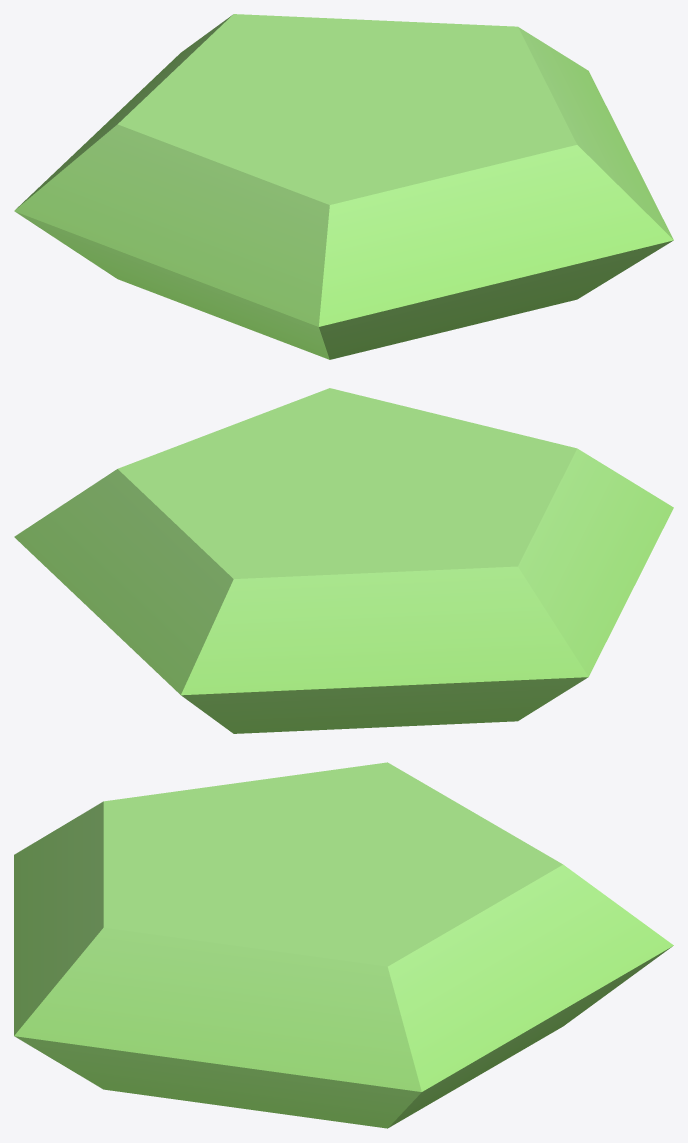
The model's file is Diamond_03.fbx.
The picture shows the model from 3 angles, top to bottom: view 1: azimuth 30°, elevation 25°; view 2: azimuth 150°, elevation 25°; view 3: azimuth 270°, elevation 25°; orthographic projection. The views are drawn at different scales.
Parts seen in each view (by area): view 1: Diamond_03; view 2: Diamond_03; view 3: Diamond_03.
Boxes of the visible parts, box(x1,y1,x2,y2) form: Diamond_03: box(14, 14, 673, 359); Diamond_03: box(14, 388, 673, 733); Diamond_03: box(14, 762, 673, 1128).
Size of the model in its own units: 0.154 by 0.0397 by 0.1465.
